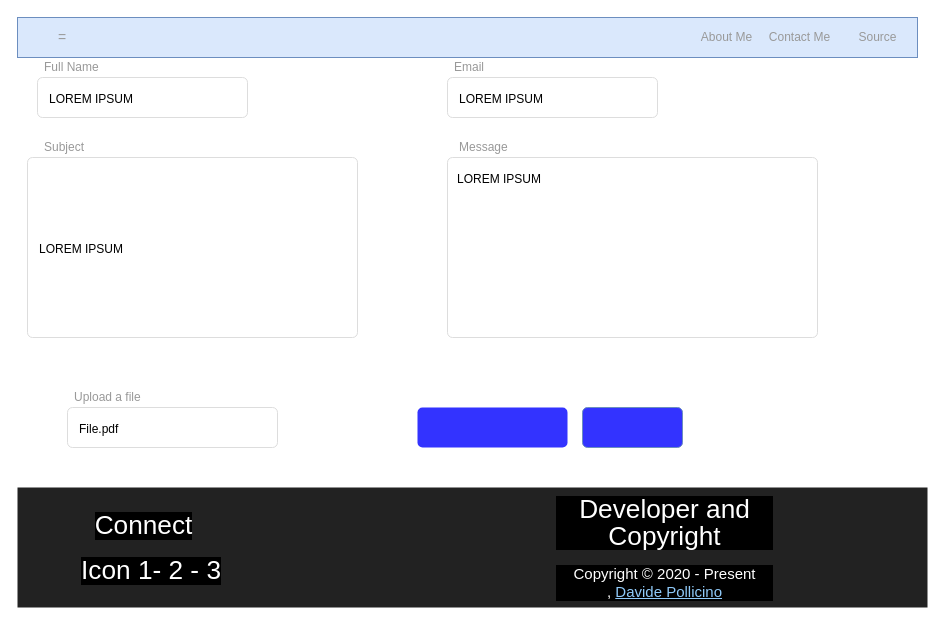
Image size: 945x634. Some labels were removed from this diagram. Here are the shapes that lost their labels. From the top down, the box of each, then its label:
(417, 407, 567, 447): Send
(582, 406, 682, 448): Reset
